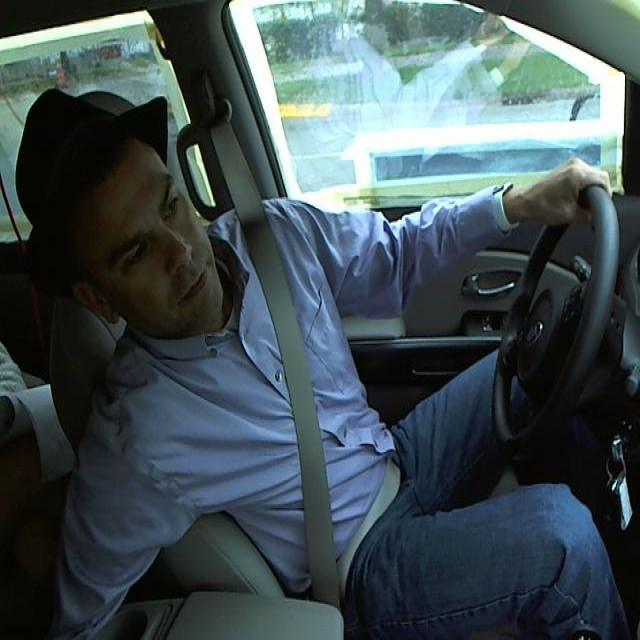seatbelt: (269, 328, 414, 616)
